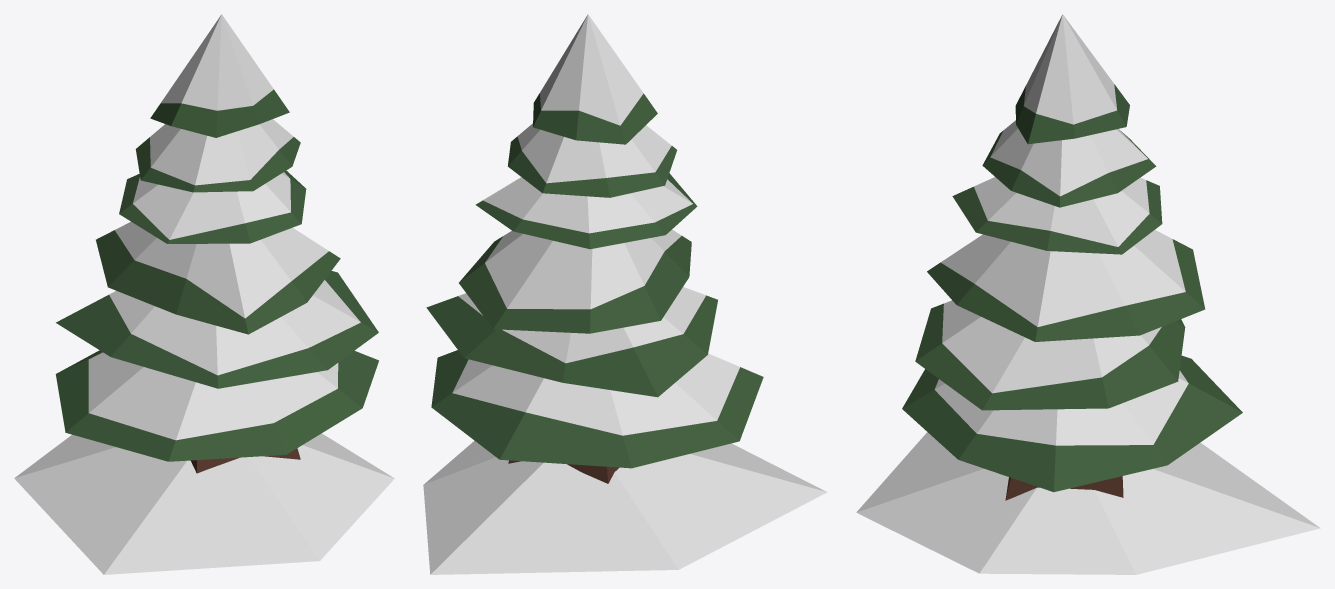
Rendered from winter_tree_1.fbx.
3 views of the same model, side by side, from view 1: azimuth 30°, elevation 25°; view 2: azimuth 150°, elevation 25°; view 3: azimuth 270°, elevation 25° (orthographic). The views are drawn at different scales.
Visible parts, largest first — view 1: winter_tree_1_LOD0; view 2: winter_tree_1_LOD0; view 3: winter_tree_1_LOD0.
Part boxes in pixels (box(x1,y1,x2,y2)): winter_tree_1_LOD0: box(14, 14, 394, 574); winter_tree_1_LOD0: box(423, 14, 827, 574); winter_tree_1_LOD0: box(856, 14, 1320, 574).
Size of what is drawn, in the model's own units: 631 by 866 by 732.
